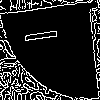I: (24, 25, 67, 44)
